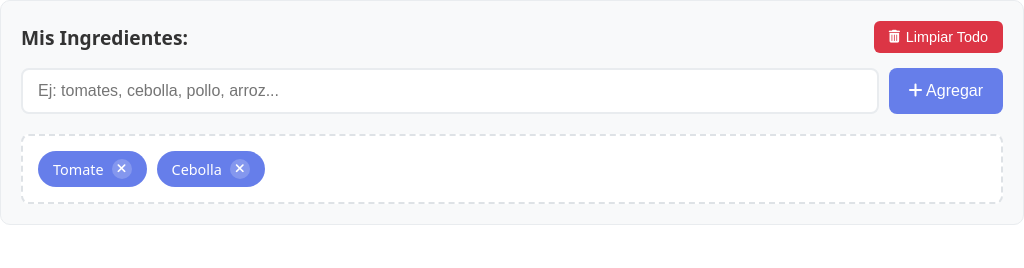
Scenario: Integración: IngredientsList.vue › debe limpiar todos los ingredientes del store si se confirma la acción
Expected: the number of list items with class "inventory-item" is 2, [38,151,146,187]; [156,151,265,187]
Click the button with class "clear-btn": (938, 37) [874,21,1003,53]
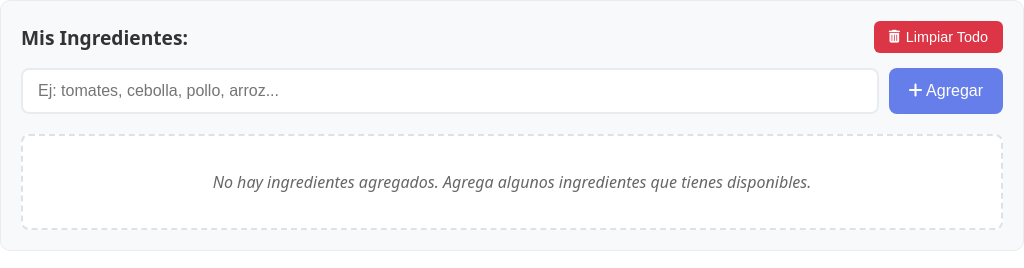
Expected: the list item with class "empty-state" is shown, [213,171,811,193]
